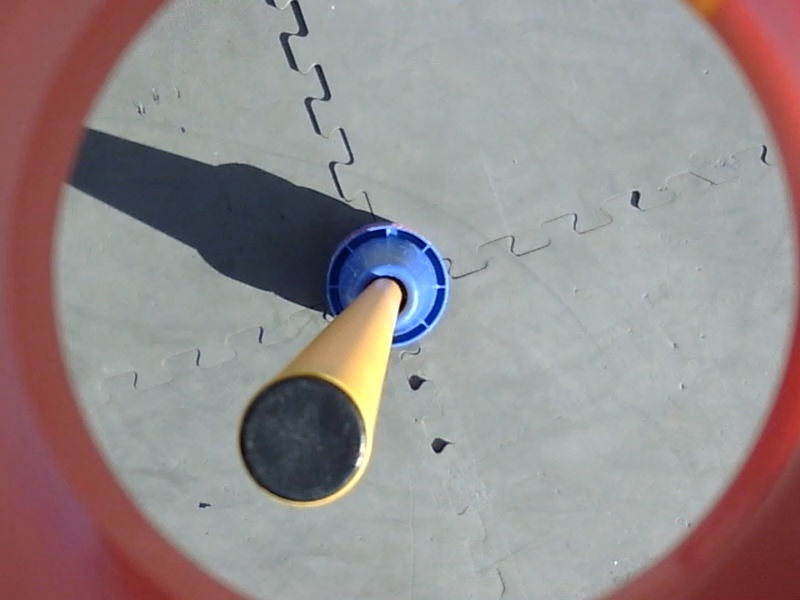tip: (232, 367, 376, 514)
